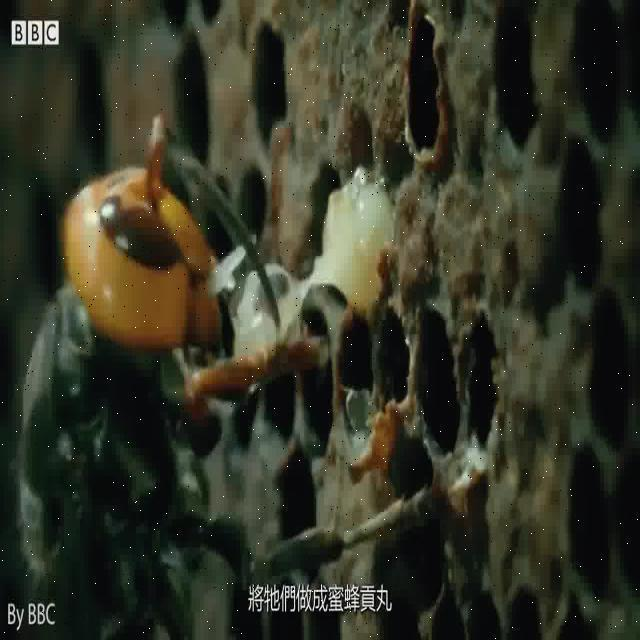Wasp: (13, 120, 455, 570)
